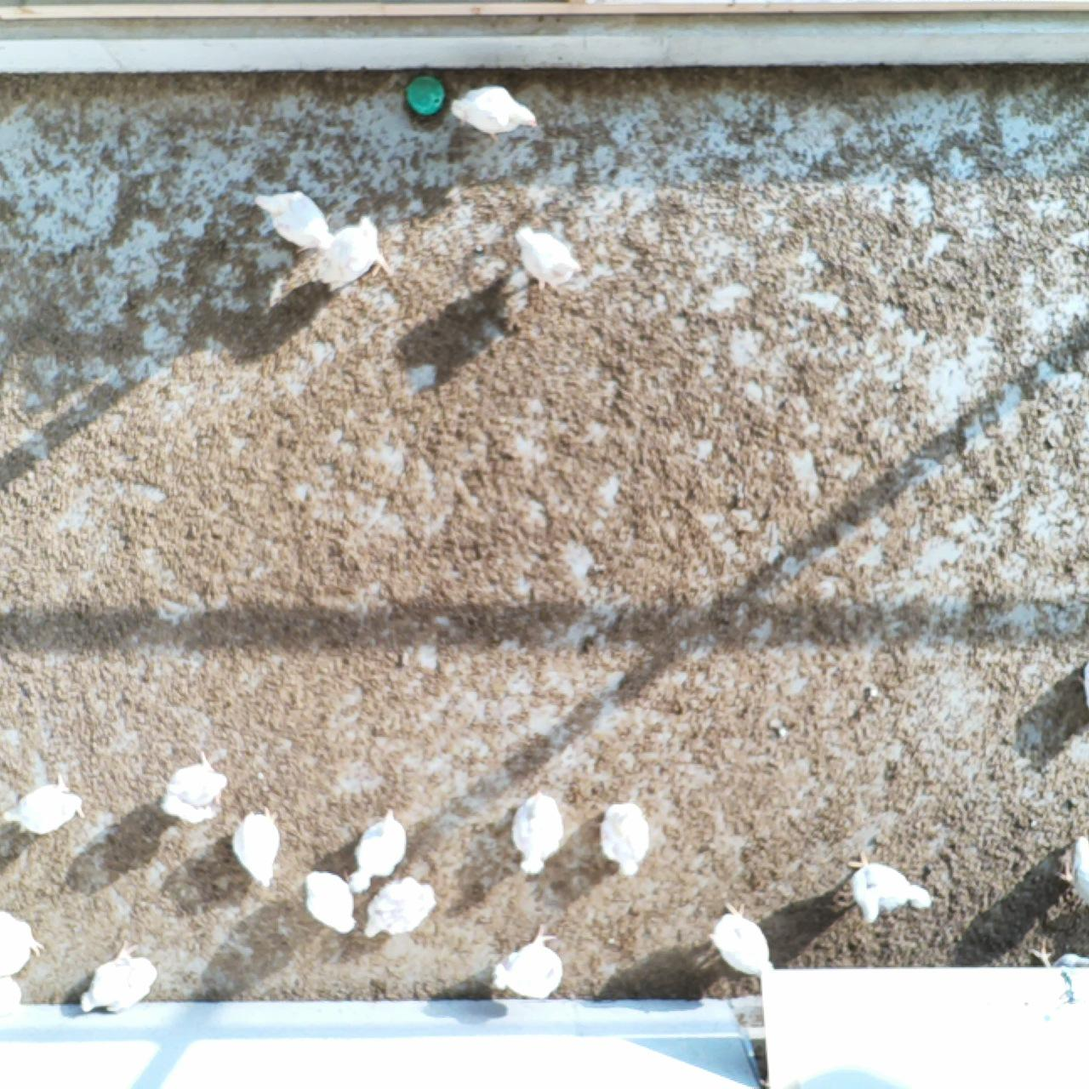chicken: (832, 845, 937, 926), (78, 937, 163, 1019), (490, 919, 570, 999), (251, 186, 340, 255), (155, 747, 232, 826), (703, 898, 777, 979), (318, 212, 390, 293), (448, 80, 540, 143), (345, 807, 410, 896), (0, 772, 87, 838), (507, 787, 567, 881), (512, 221, 585, 293), (228, 802, 284, 892), (362, 876, 439, 941), (596, 799, 653, 879), (302, 867, 360, 938), (0, 907, 49, 980), (1050, 832, 1089, 909)
